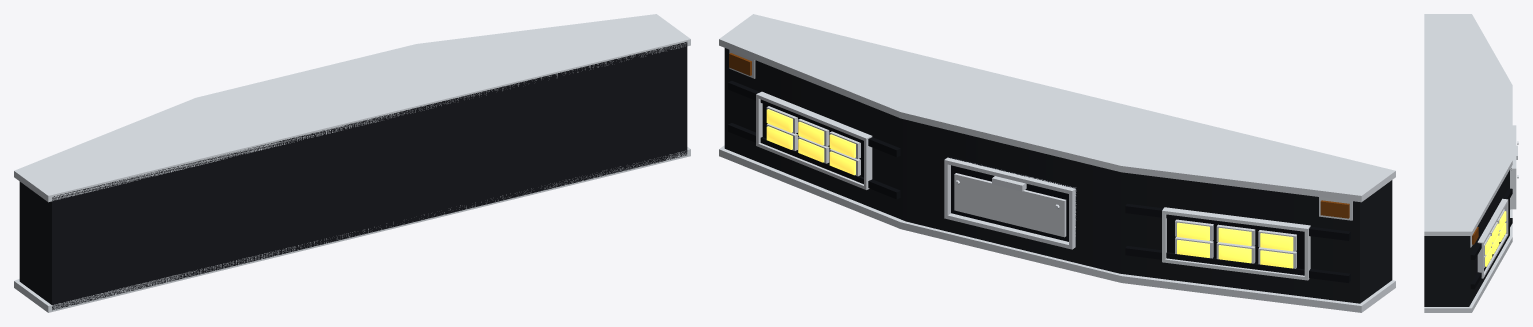
The model's file is fb_fan_amber.glb.
3 renders of one model, left to right at view 1: azimuth 30°, elevation 25°; view 2: azimuth 150°, elevation 25°; view 3: azimuth 270°, elevation 25°, orthographic. The views are drawn at different scales.
Visible parts, largest first — view 1: fb_fan_amber_MID_deco_body, fb_fan_amber_TOP_chrome, fb_fan_amber_TOP_deco_body, fb_fan_amber_BOT_deco_body, fb_fan_amber_BOT_chrome; view 2: fb_fan_amber_TOP_chrome, fb_fan_amber_TOP_deco_body, fb_fan_amber_MID_deco_body, fb_fan_amber_BOT_deco_body, fb_fan_amber_CEN_chrome, fb_fan_amber_BOT_chrome, fb_fan_amber_CEN_lamp_amber, fb_fan_amber_MID_deco_trim, fb_fan_amber_CEN_deco_plate, fb_fan_amber_CEN_deco_trim, fb_fan_amber_TOP_deco_signal; view 3: fb_fan_amber_TOP_chrome, fb_fan_amber_MID_deco_body, fb_fan_amber_CEN_chrome, fb_fan_amber_TOP_deco_body, fb_fan_amber_BOT_chrome, fb_fan_amber_BOT_deco_body, fb_fan_amber_CEN_lamp_amber, fb_fan_amber_MID_deco_trim, fb_fan_amber_TOP_deco_signal.
Boxes of the visible parts, x1,y1,x2,y2 form: fb_fan_amber_MID_deco_body: (19,74,687,287); fb_fan_amber_TOP_chrome: (14,14,690,202); fb_fan_amber_TOP_deco_body: (19,42,687,229); fb_fan_amber_BOT_deco_body: (19,133,687,310); fb_fan_amber_BOT_chrome: (14,147,690,312); fb_fan_amber_TOP_chrome: (719,14,1395,220); fb_fan_amber_TOP_deco_body: (724,48,1392,227); fb_fan_amber_MID_deco_body: (724,73,1392,286); fb_fan_amber_BOT_deco_body: (724,132,1392,303); fb_fan_amber_CEN_chrome: (756,91,1310,280); fb_fan_amber_BOT_chrome: (719,145,1395,312); fb_fan_amber_CEN_lamp_amber: (766,109,1293,268); fb_fan_amber_MID_deco_trim: (728,81,1350,282); fb_fan_amber_CEN_deco_plate: (954,173,1066,237); fb_fan_amber_CEN_deco_trim: (762,104,1304,269); fb_fan_amber_TOP_deco_signal: (729,53,1349,218); fb_fan_amber_TOP_chrome: (1424,14,1512,247); fb_fan_amber_MID_deco_body: (1424,183,1509,295); fb_fan_amber_CEN_chrome: (1477,125,1518,278); fb_fan_amber_TOP_deco_body: (1424,170,1509,254); fb_fan_amber_BOT_chrome: (1424,209,1512,312); fb_fan_amber_BOT_deco_body: (1424,228,1509,306); fb_fan_amber_CEN_lamp_amber: (1485,211,1506,266); fb_fan_amber_MID_deco_trim: (1470,188,1512,289); fb_fan_amber_TOP_deco_signal: (1472,227,1478,244).
Bounding box in the file's own units: 2.53 × 0.44 × 0.463.
